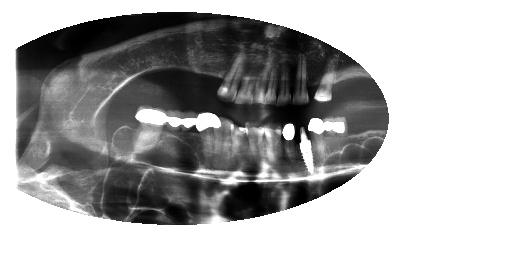i10healthy: (211, 104, 235, 177)
i11loss: (193, 105, 224, 173)
i12loss: (178, 104, 201, 166)
i13loss: (164, 103, 184, 166)
i14loss: (133, 105, 167, 157)
i15loss: (120, 105, 142, 155)
i2loss: (330, 113, 349, 162)
i3loss: (320, 113, 340, 162)
i4loss: (307, 113, 328, 168)
i5loss: (294, 112, 318, 176)
i6loss: (281, 114, 299, 172)
i7healthy: (262, 115, 284, 177)
i8healthy: (242, 111, 266, 179)
i9chipped: (228, 114, 252, 187)
u10healthy: (234, 46, 256, 107)
u11healthy: (216, 38, 243, 102)
u12loss: (204, 38, 225, 97)
u13loss: (182, 38, 207, 95)
u14loss: (165, 40, 187, 94)
u15loss: (150, 42, 169, 95)
u2loss: (358, 68, 374, 105)
u3loss: (352, 60, 362, 105)
u4loss: (337, 52, 353, 104)
u5healthy: (312, 43, 341, 105)
u6decay: (290, 36, 312, 107)
u7decay: (274, 41, 296, 107)
u8healthy: (264, 45, 279, 107)
u9healthy: (253, 46, 268, 107)
